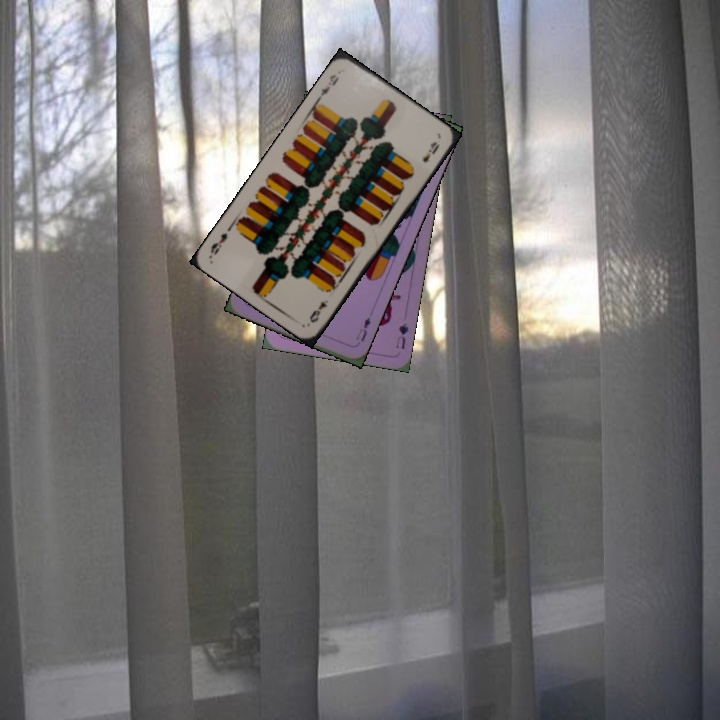E9: (314, 70, 342, 102), (305, 296, 331, 326)
EU: (352, 313, 373, 344)
GU: (392, 319, 411, 352)
